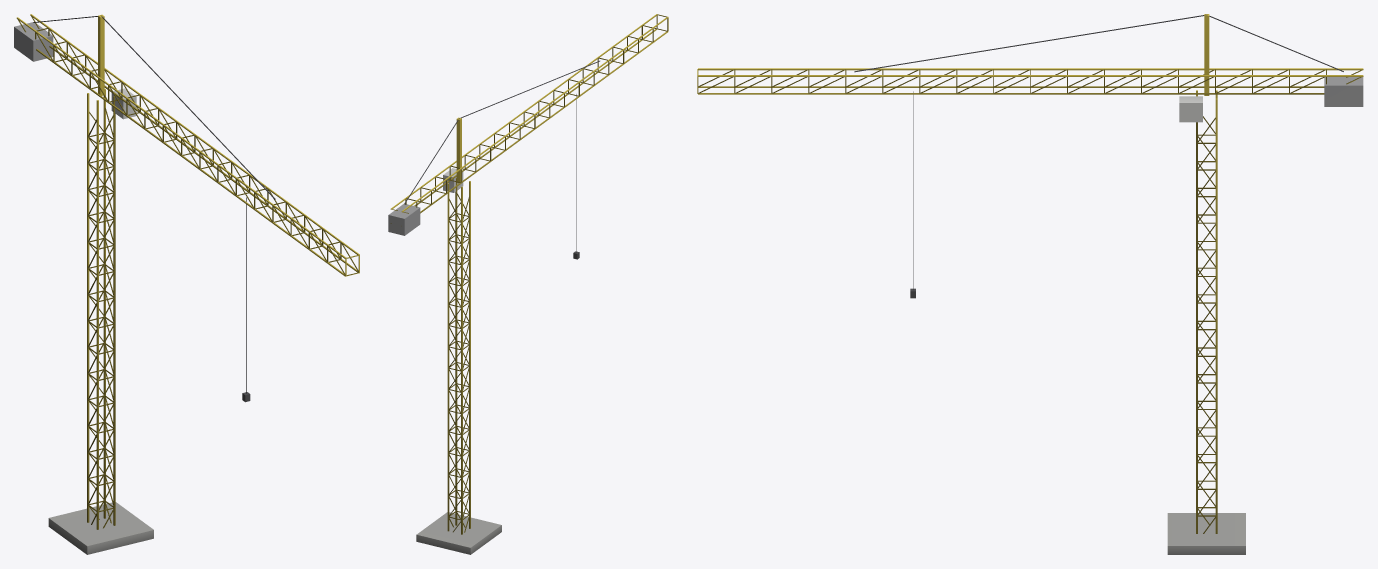
The model's file is turmkran.glb.
3 renders of one model, left to right at view 1: azimuth 30°, elevation 25°; view 2: azimuth 150°, elevation 25°; view 3: azimuth 270°, elevation 25°, orthographic. The views are drawn at different scales.
Visible parts, largest first — view 1: lack, teil; view 2: lack, teil; view 3: teil, lack.
Part boxes in pixels (<box>): lack: <box>48,89,153,554</box>; teil: <box>14,14,359,402</box>; lack: <box>416,178,501,554</box>; teil: <box>388,14,668,259</box>; teil: <box>697,14,1363,298</box>; lack: <box>1167,90,1245,554</box>.
Bounding box in the file's own units: 8 × 59.08 × 68.07.
